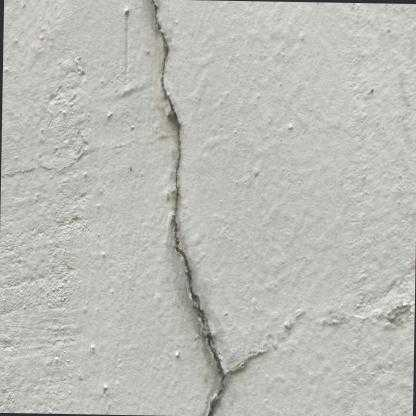crack: (149, 0, 226, 416)
